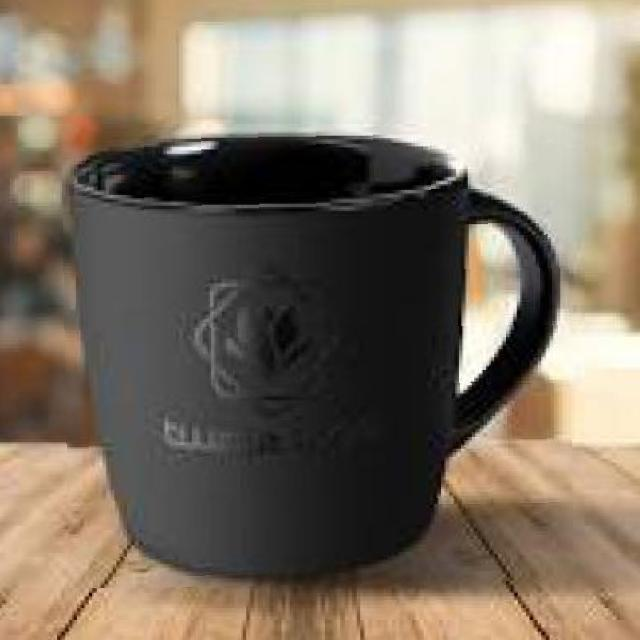cup: (61, 123, 574, 588)
